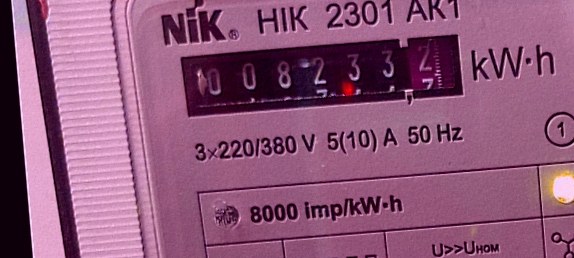0: (203, 65, 225, 98), (238, 60, 259, 93)
2: (307, 54, 330, 88), (415, 41, 435, 74)
3: (344, 51, 364, 83), (379, 47, 398, 79)
8: (274, 58, 294, 91)
screen: (169, 21, 476, 128)
